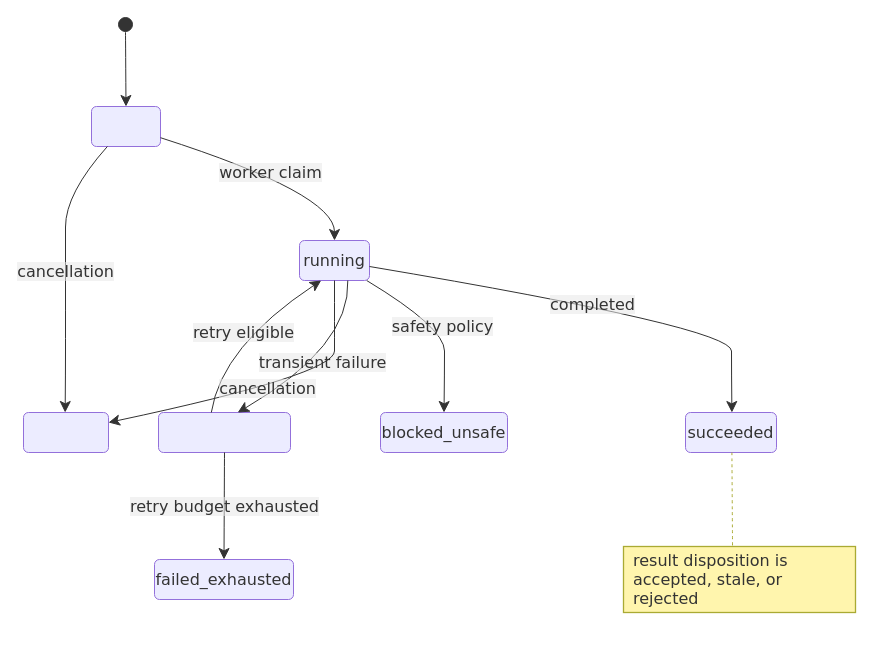
The diagram is 892 pixels wide and 655 high, and some of its shapes have lost their labels. Each missing label, with the centre of its shape:
"cancelled" belongs at point (65, 432).
"failed_retryable" belongs at point (224, 432).
"queued" belongs at point (125, 126).
